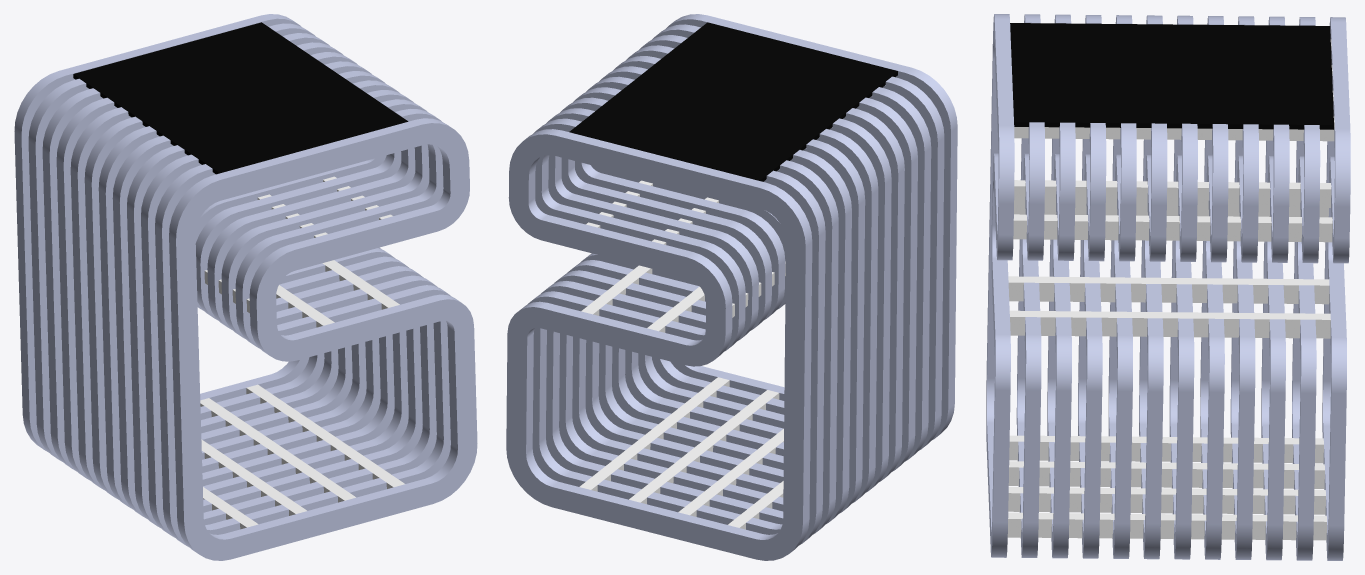
3 views of the same model, side by side, from view 1: azimuth 30°, elevation 25°; view 2: azimuth 150°, elevation 25°; view 3: azimuth 270°, elevation 25° (orthographic). The views are drawn at different scales.
Visible parts, largest first — view 1: DFSNS07-P1, DFSNS07-AYNA, DFSNS07-P2, DFSNS07-P011, DFSNS07-P012, DFSNS07-P013, DFSNS07-P014, DFSNS07-P015, DFSNS07-P021, DFSNS07-P016, DFSNS07-P017, DFSNS07-P018 (+7 smaller); view 2: DFSNS07-P021, DFSNS07-AYNA, DFSNS07-P019, DFSNS07-P018, DFSNS07-P017, DFSNS07-P016, DFSNS07-P015, DFSNS07-P014, DFSNS07-P1, DFSNS07-P013, DFSNS07-P012, DFSNS07-P011 (+7 smaller); view 3: DFSNS07-AYNA, DFSNS07-P1, DFSNS07-P021, DFSNS07-P018, DFSNS07-P011, DFSNS07-P014, DFSNS07-P016, DFSNS07-P015, DFSNS07-P017, DFSNS07-P012, DFSNS07-P2, DFSNS07-P013 (+11 smaller).
Boxes of the visible parts, box(x1,y1,x2,y2) form: DFSNS07-P1: box(169, 118, 477, 560); DFSNS07-AYNA: box(73, 22, 408, 174); DFSNS07-P2: box(155, 109, 451, 547); DFSNS07-P011: box(141, 99, 437, 537); DFSNS07-P012: box(127, 90, 423, 527); DFSNS07-P013: box(112, 80, 408, 518); DFSNS07-P014: box(98, 71, 395, 509); DFSNS07-P015: box(84, 61, 380, 499); DFSNS07-P021: box(14, 14, 309, 452); DFSNS07-P016: box(70, 52, 366, 490); DFSNS07-P017: box(56, 42, 352, 480); DFSNS07-P018: box(42, 33, 338, 471); DFSNS07-P021: box(506, 129, 812, 560); DFSNS07-AYNA: box(569, 22, 897, 181); DFSNS07-P019: box(527, 118, 825, 544); DFSNS07-P018: box(541, 108, 838, 534); DFSNS07-P017: box(554, 97, 851, 523); DFSNS07-P016: box(567, 87, 865, 513); DFSNS07-P015: box(580, 76, 878, 502); DFSNS07-P014: box(598, 66, 891, 492); DFSNS07-P1: box(666, 14, 957, 439); DFSNS07-P013: box(612, 56, 904, 481); DFSNS07-P012: box(625, 45, 917, 471); DFSNS07-P011: box(638, 35, 931, 461); DFSNS07-AYNA: box(1010, 23, 1333, 129); DFSNS07-P1: box(986, 14, 1014, 557); DFSNS07-P021: box(1322, 17, 1350, 560); DFSNS07-P018: box(1261, 16, 1289, 560); DFSNS07-P011: box(1047, 14, 1075, 558); DFSNS07-P014: box(1139, 15, 1167, 559); DFSNS07-P016: box(1200, 16, 1228, 559); DFSNS07-P015: box(1169, 15, 1197, 559); DFSNS07-P017: box(1230, 16, 1258, 559); DFSNS07-P012: box(1078, 15, 1106, 558); DFSNS07-P2: box(1016, 14, 1044, 557); DFSNS07-P013: box(1108, 15, 1136, 558).
Bounding box in the file's own units: 0.4647 × 0.5633 × 0.4292.
